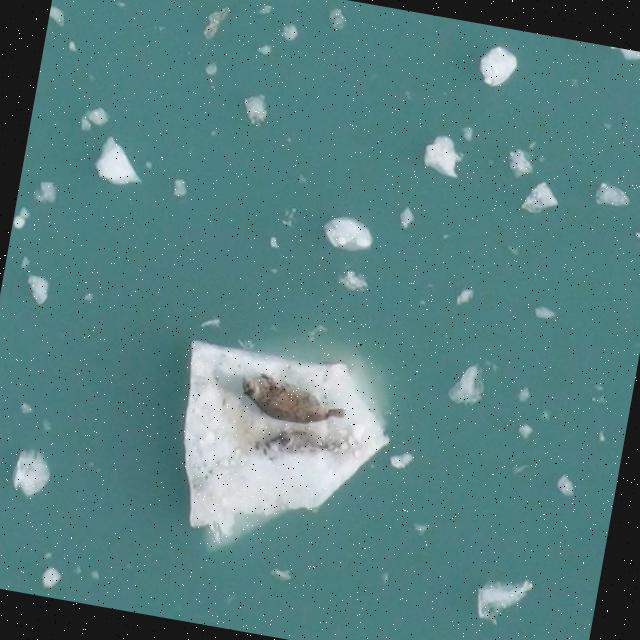seal: (242, 376, 345, 425)
